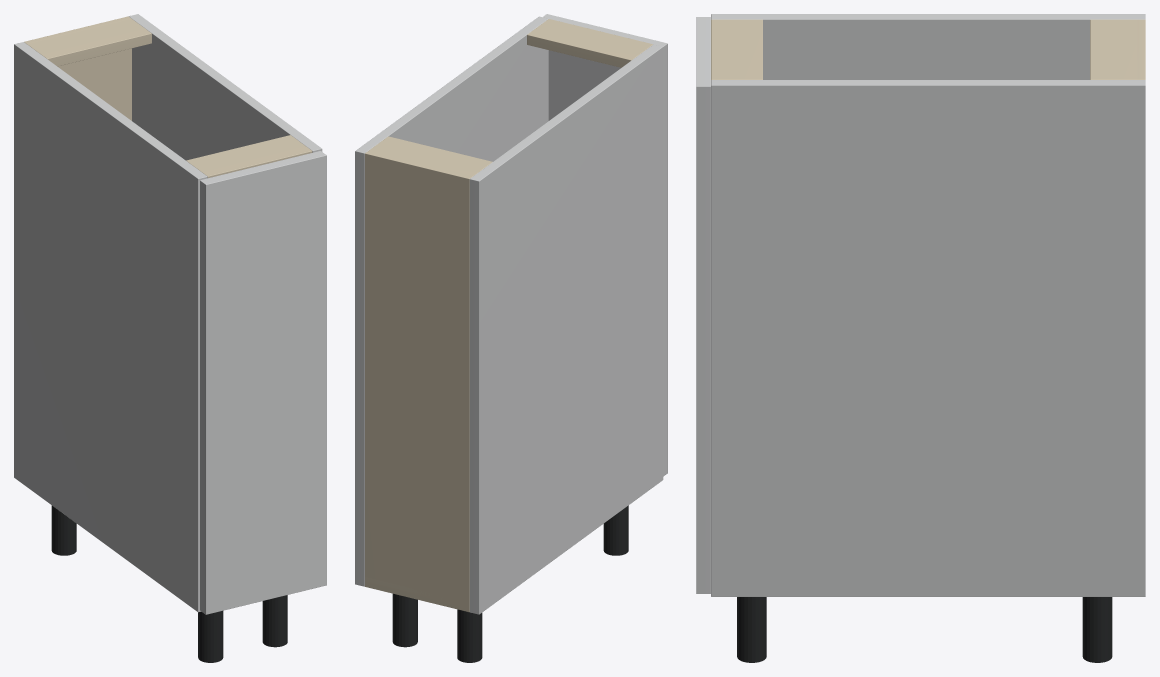
File: oppein-ply-pgw-bsr09.glb
3 renders of one model, left to right at view 1: azimuth 30°, elevation 25°; view 2: azimuth 150°, elevation 25°; view 3: azimuth 270°, elevation 25°, orthographic. The views are drawn at different scales.
Parts seen in each view (by area): view 1: Cabinet side, Door, Cabinet side.001, Cabinet back, Top support rail, Top support rail.001, Adjustable foot.001, Adjustable foot.003, Adjustable foot; view 2: Cabinet side, Cabinet back, Cabinet side.001, Door, Top support rail.001, Top support rail, Adjustable foot, Adjustable foot.002, Adjustable foot.001, Cabinet bottom; view 3: Cabinet side.001, Cabinet side, Door, Top support rail.001, Top support rail, Adjustable foot.002, Adjustable foot.003.
Part boxes in pixels (x1,y1,x2,y2): Cabinet side: [14, 42, 207, 612]; Door: [200, 151, 326, 614]; Cabinet side.001: [129, 14, 322, 160]; Cabinet back: [24, 16, 131, 120]; Top support rail: [26, 19, 151, 66]; Top support rail.001: [186, 135, 312, 178]; Adjustable foot.001: [198, 611, 223, 662]; Adjustable foot.003: [262, 595, 287, 647]; Adjustable foot: [51, 505, 76, 555]; Cabinet side: [469, 44, 663, 614]; Cabinet back: [365, 151, 472, 612]; Cabinet side.001: [355, 16, 548, 586]; Door: [543, 14, 667, 476]; Top support rail.001: [527, 19, 652, 67]; Top support rail: [369, 136, 492, 176]; Adjustable foot: [457, 609, 482, 662]; Adjustable foot.002: [392, 593, 417, 647]; Adjustable foot.001: [603, 505, 628, 555]; Cabinet bottom: [365, 577, 466, 611]; Cabinet side.001: [711, 80, 1145, 596]; Cabinet side: [711, 14, 1145, 79]; Door: [696, 17, 710, 593]; Top support rail.001: [711, 19, 762, 79]; Top support rail: [1090, 19, 1141, 79]; Adjustable foot.002: [1082, 597, 1112, 662]; Adjustable foot.003: [737, 597, 766, 662].
Size of the model in its own units: 0.2286 by 0.8763 by 0.6064.
